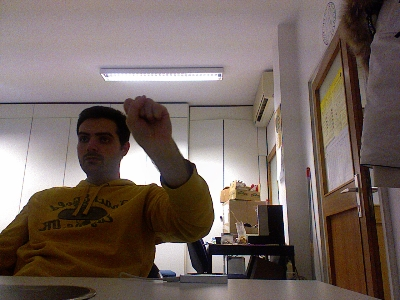石头: (122, 92, 173, 151)
